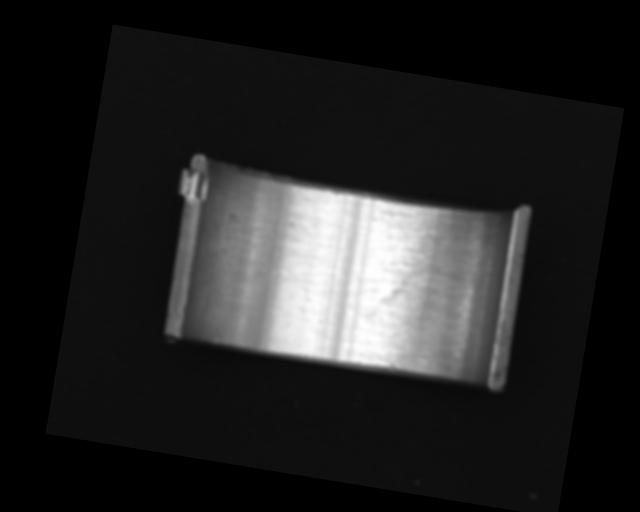bruise: (386, 361, 398, 371)
